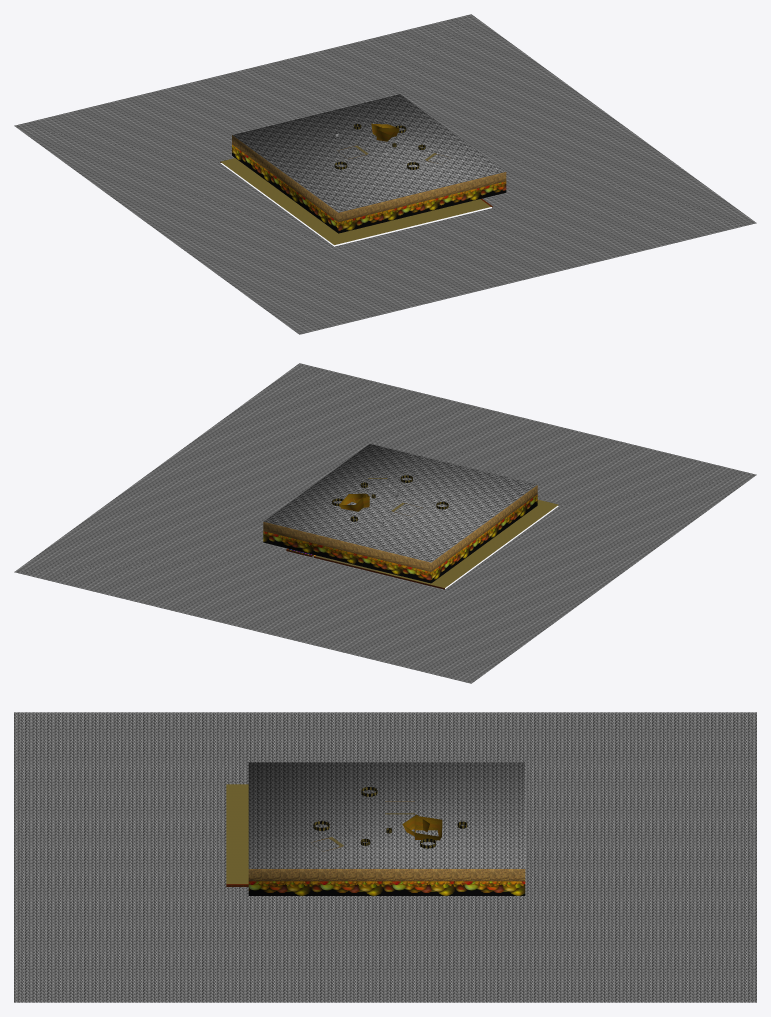
3 views of the same model, one above another, from view 1: azimuth 30°, elevation 25°; view 2: azimuth 150°, elevation 25°; view 3: azimuth 270°, elevation 25° (orthographic). The views are drawn at different scales.
Parts seen in each view (by area): view 1: Sahara_Hideout-GRP-83119-SH_Yogan.001, Sahara_Hideout-GRP-83119-SH_Yogan.033, Sahara_Hideout-GRP-83119-SH_Yogan.039, Sahara_Hideout-GRP-83119-SH_Yogan.021; view 2: Sahara_Hideout-GRP-83119-SH_Yogan.001, Sahara_Hideout-GRP-83119-SH_Yogan.039, Sahara_Hideout-GRP-83119-SH_Yogan.021, Sahara_Hideout-GRP-83119-SH_Yogan.033; view 3: Sahara_Hideout-GRP-83119-SH_Yogan.001, Sahara_Hideout-GRP-83119-SH_Yogan.039, Sahara_Hideout-GRP-83119-SH_Yogan.021, Sahara_Hideout-GRP-83119-SH_Yogan.033, Sahara_Hideout-GRP-83119-SH_Yogan.006, Sahara_Hideout-GRP-83119-SH_Yogan.034.
Part boxes in pixels (x1,y1,x2,y2): Sahara_Hideout-GRP-83119-SH_Yogan.001: (14,14,756,334); Sahara_Hideout-GRP-83119-SH_Yogan.033: (220,158,490,244); Sahara_Hideout-GRP-83119-SH_Yogan.039: (232,144,506,233); Sahara_Hideout-GRP-83119-SH_Yogan.021: (232,135,506,222); Sahara_Hideout-GRP-83119-SH_Yogan.001: (14,363,756,683); Sahara_Hideout-GRP-83119-SH_Yogan.039: (263,494,537,583); Sahara_Hideout-GRP-83119-SH_Yogan.021: (263,485,537,571); Sahara_Hideout-GRP-83119-SH_Yogan.033: (376,499,558,587); Sahara_Hideout-GRP-83119-SH_Yogan.001: (14,712,756,1002); Sahara_Hideout-GRP-83119-SH_Yogan.039: (248,881,525,895); Sahara_Hideout-GRP-83119-SH_Yogan.021: (248,801,525,881); Sahara_Hideout-GRP-83119-SH_Yogan.033: (226,784,248,883); Sahara_Hideout-GRP-83119-SH_Yogan.006: (402,814,442,840); Sahara_Hideout-GRP-83119-SH_Yogan.034: (313,787,467,848).
Bounding box in the file's own units: 931760 × 86251 × 1007296.
Materials: 47 (46 with a texture image).
